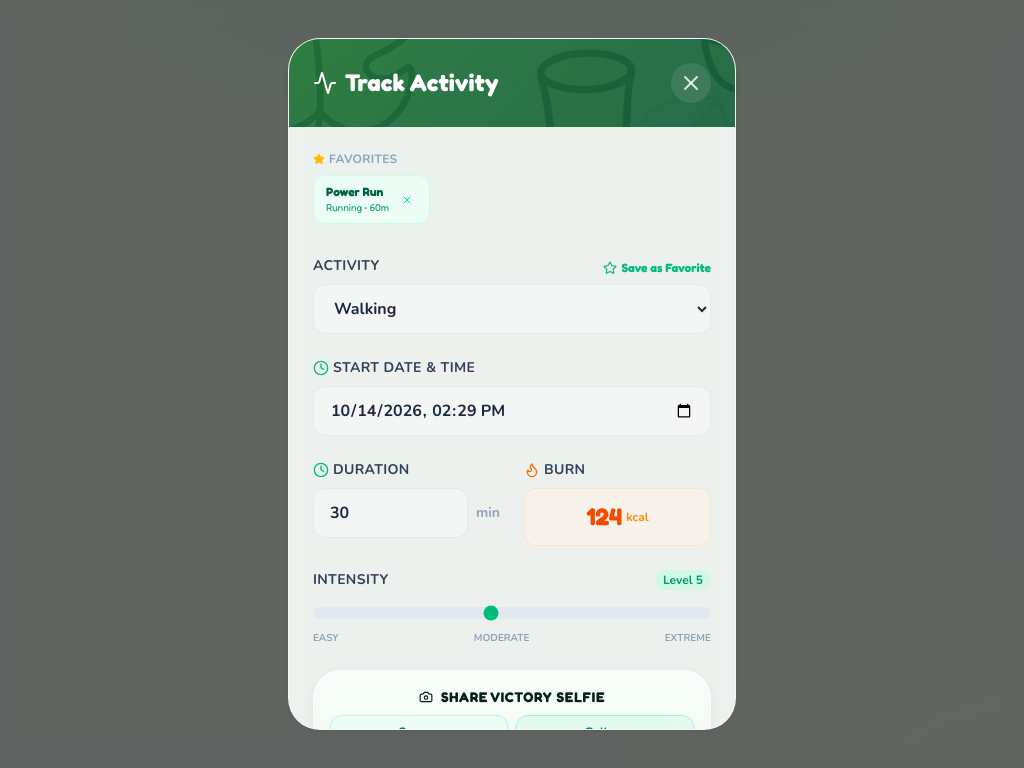
it: ActivityTrackerModal - Saved Activities › loads a favorite when clicked
The width and height of the screenshot is (1024, 768).
Expected: the number field showing "30" is shown, [313,488,468,538]
// Click the favorite
Click the text "Power Run" at (358, 192), box [326,184,389,200]
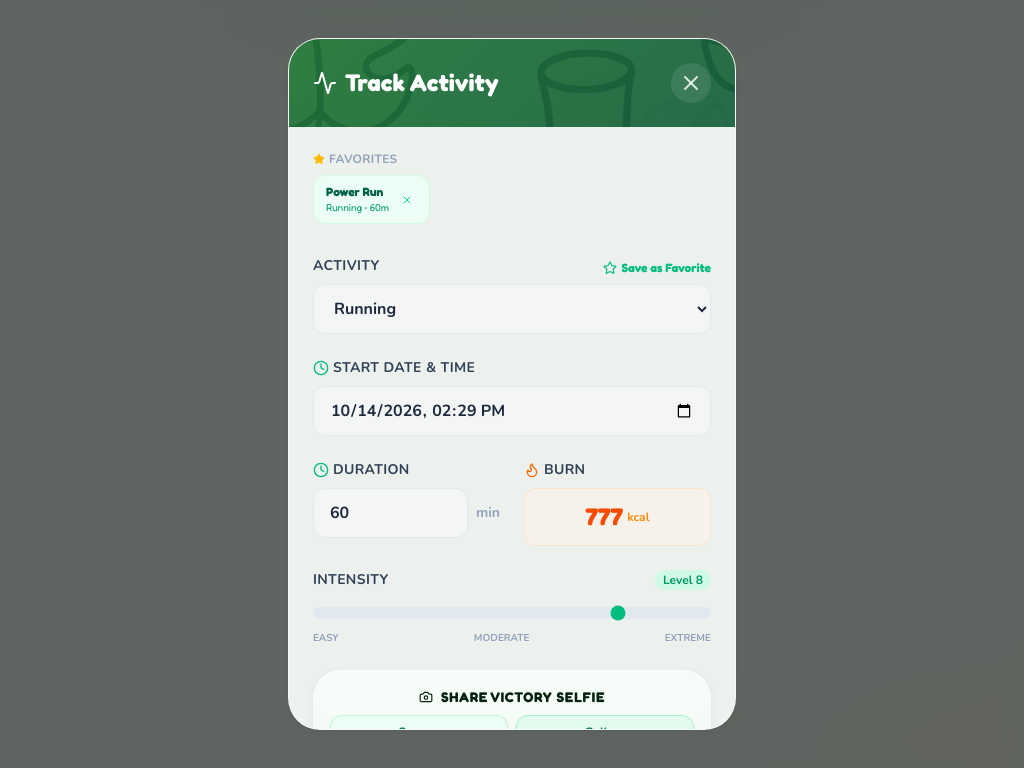
Now the number field showing "60" is shown, box [313,488,468,538]
Now the dropdown shows "Running", box [313,284,711,334]
